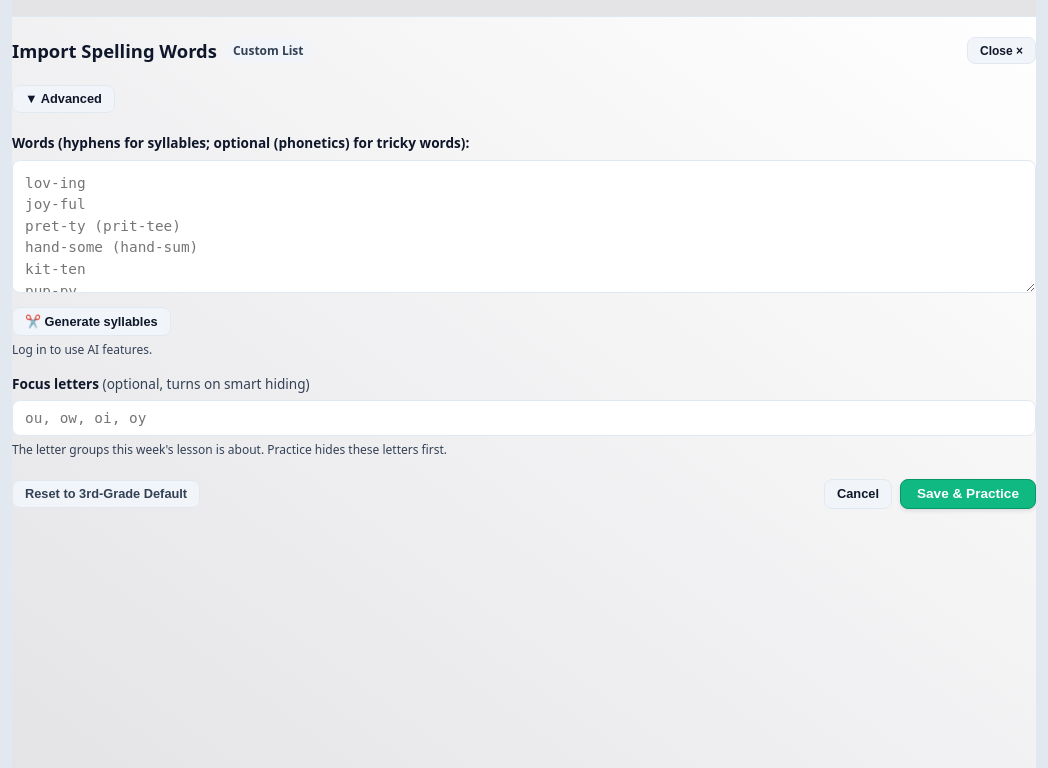
ImportSection › keeps the AI prompt generator behind Advanced
Expected: the button "Copy AI Prompt" is not shown
Click the button "▼ Advanced" at (63, 99), box [12,85,115,113]
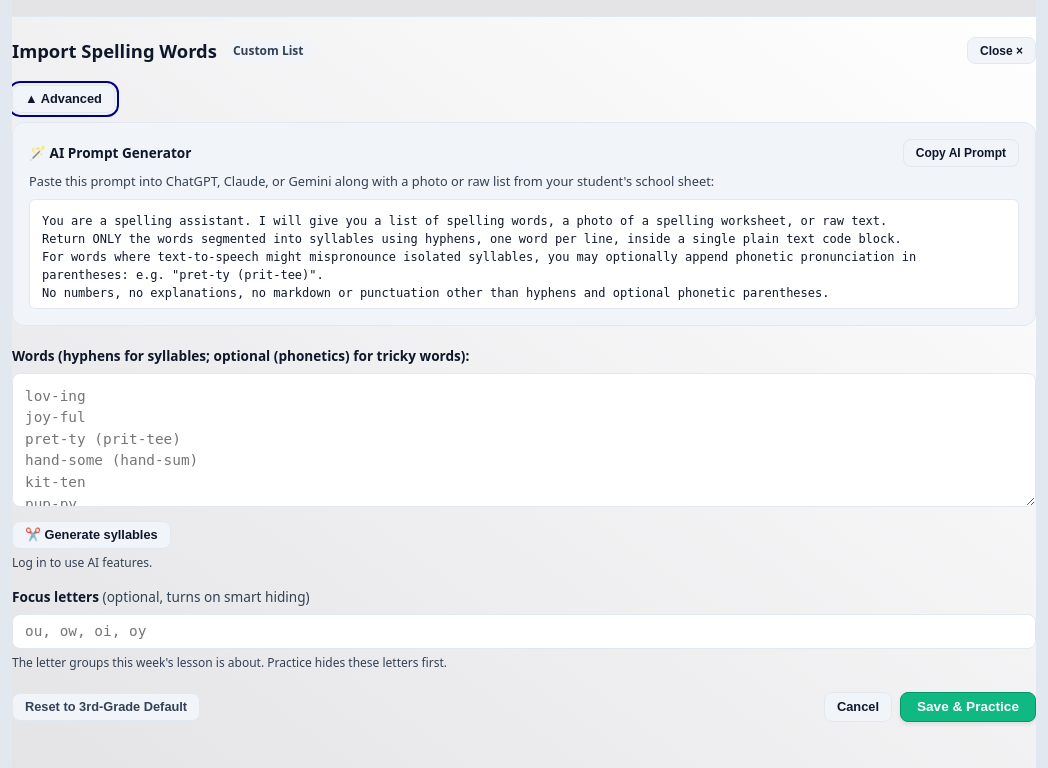
Expected: the button "Copy AI Prompt" is shown, [903,139,1019,167]
